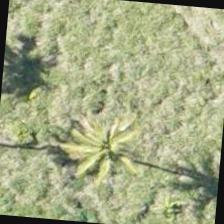Kelapa_Sawit: (64, 105, 162, 203)
